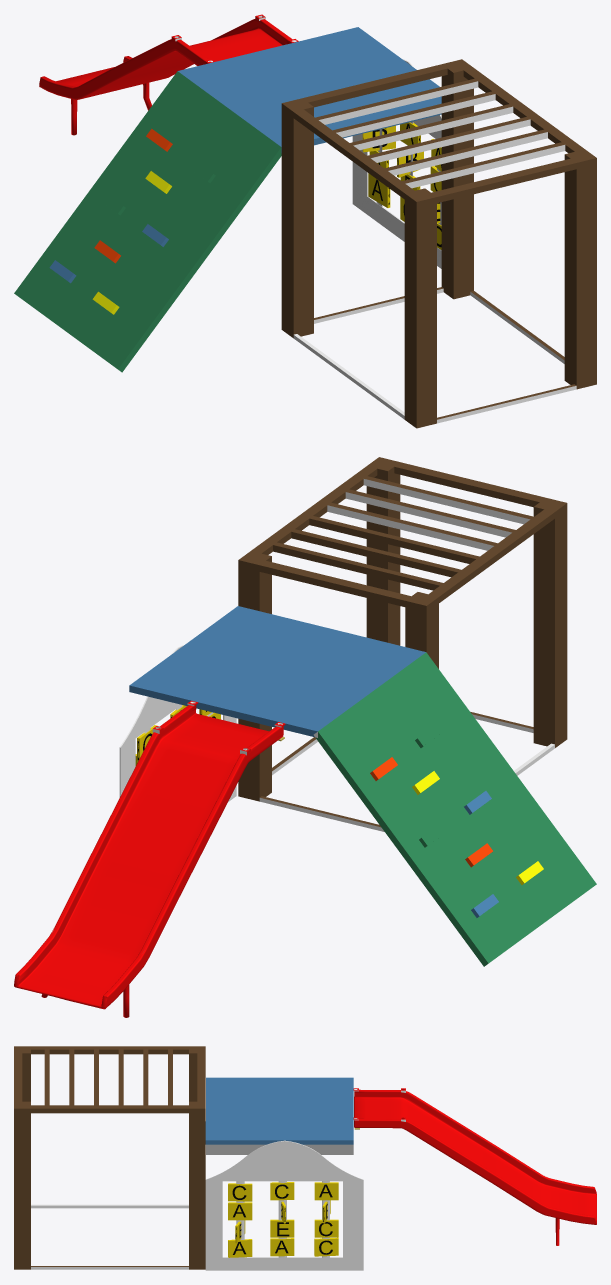
The picture shows the model from 3 angles, top to bottom: view 1: azimuth 30°, elevation 25°; view 2: azimuth 150°, elevation 25°; view 3: azimuth 270°, elevation 25°; orthographic projection. The views are drawn at different scales.
Visible parts, largest first — view 1: Layer0_001, Cylinder02_001, Group_001; view 2: Layer0_001, Cylinder02_001, Group_001; view 3: Layer0_001, Cylinder02_001, Group_001, Group_008, Group_014, Group_016, Group_011, Group_009, Group_005, Group_012, Group_006, Group_015.
Part boxes in pixels (x1,y1,x2,y2): Layer0_001: (14, 27, 596, 428); Cylinder02_001: (39, 14, 298, 135); Group_001: (352, 59, 441, 268); Layer0_001: (129, 457, 596, 966); Cylinder02_001: (14, 700, 285, 1017); Group_001: (119, 645, 236, 801); Layer0_001: (14, 1046, 353, 1269); Cylinder02_001: (353, 1088, 596, 1245); Group_001: (205, 1140, 363, 1270); Group_008: (314, 1182, 338, 1200); Group_014: (228, 1202, 252, 1220); Group_016: (228, 1183, 252, 1201); Group_011: (270, 1182, 294, 1200); Group_009: (270, 1238, 294, 1256); Group_005: (314, 1237, 338, 1256); Group_012: (270, 1219, 294, 1237); Group_006: (314, 1219, 338, 1237); Group_015: (228, 1239, 252, 1257).
Bounding box in the file's own units: 118 × 72.21 × 233.
